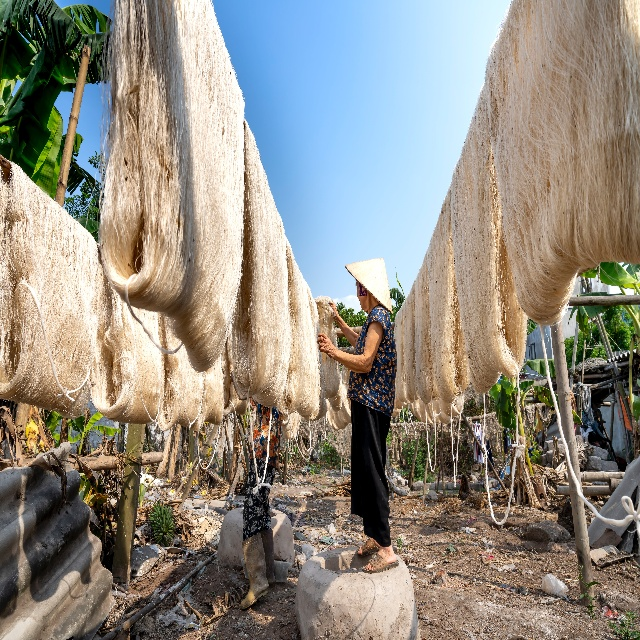Sin_guantes: (317, 332, 335, 359), (330, 299, 340, 324)
